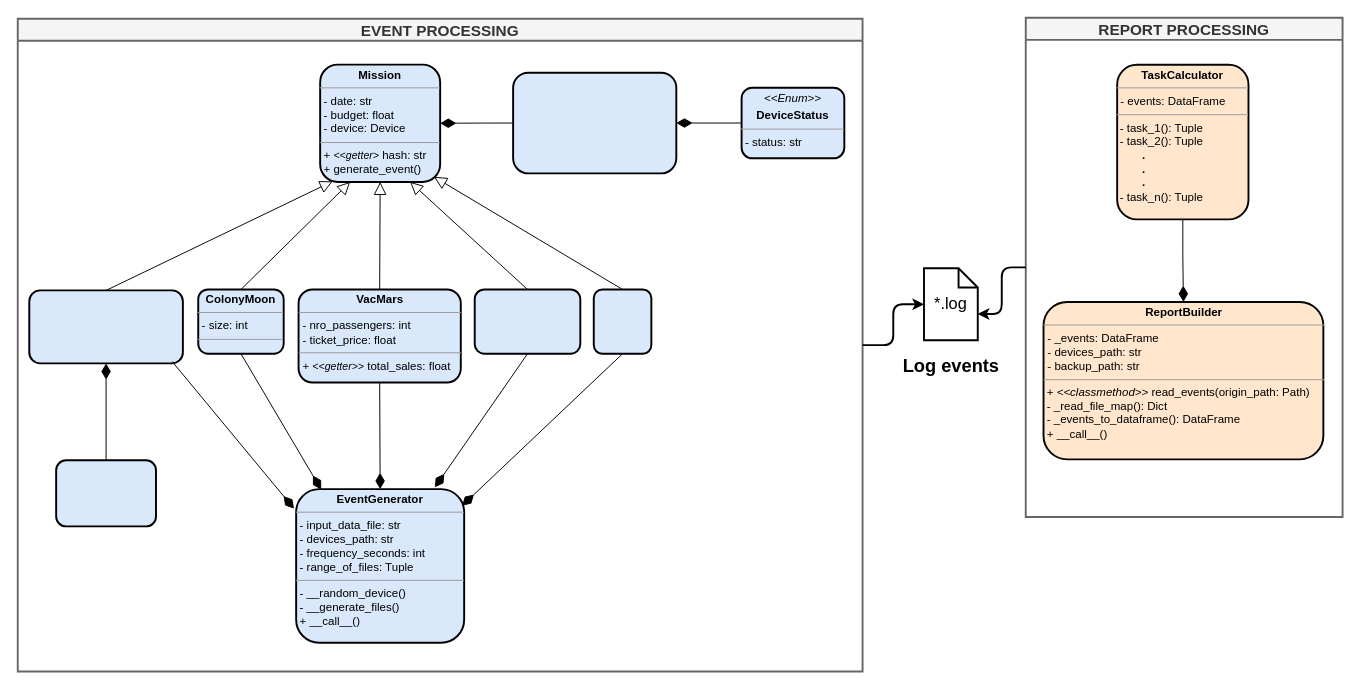
The diagram is 1359 pixels wide and 688 high, and some of its shapes have lost their labels. The shapes that lost their labels are listed below. From the top down, each one's centre as x and y in pixels, then its label:
[594,122]: Device - device_type: str - description: str - device_status: DeviceStatus
[105,326]: OrbitOne - satellite_name: str - service_type: ServiceType
[527,321]: GalaxyTwo - galaxy_name: str
[622,321]: Unkn - uuid: str
[105,493]: <<Enum>> ServiceType - name: str
